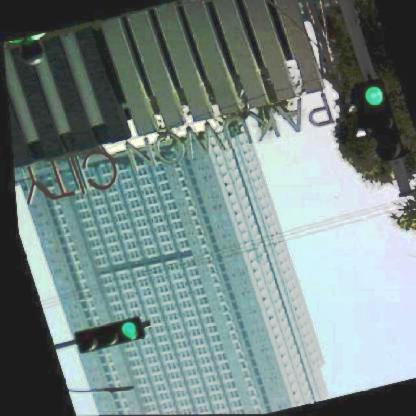Traffic Light -Green-: (352, 77, 404, 166), (65, 316, 140, 352)
